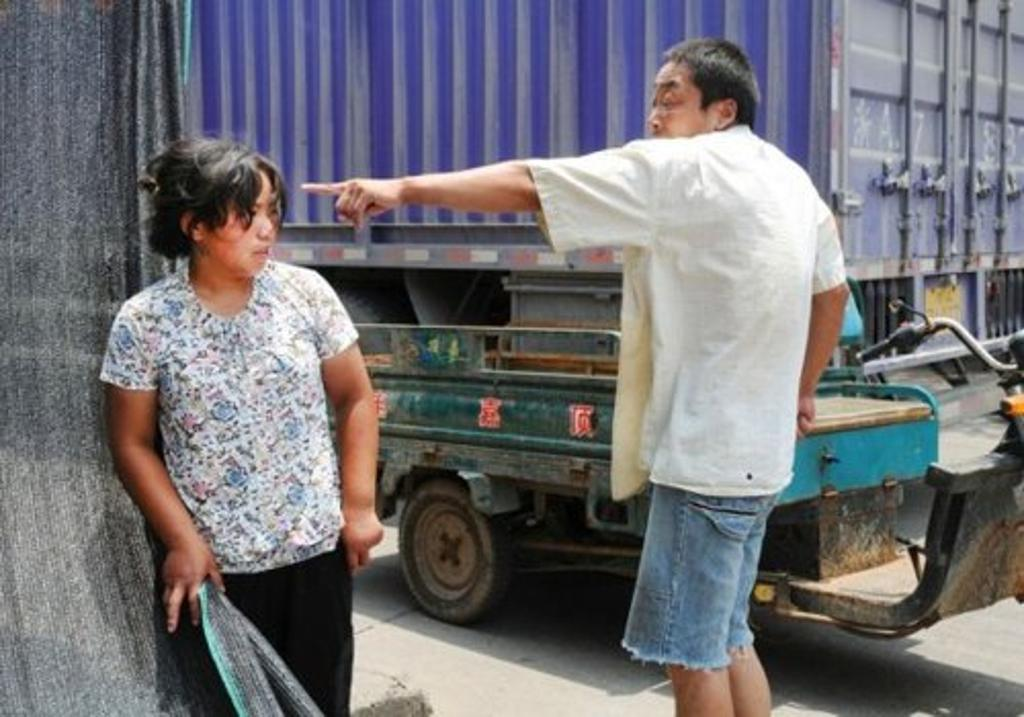face: (650, 58, 720, 166), (206, 172, 276, 274)
